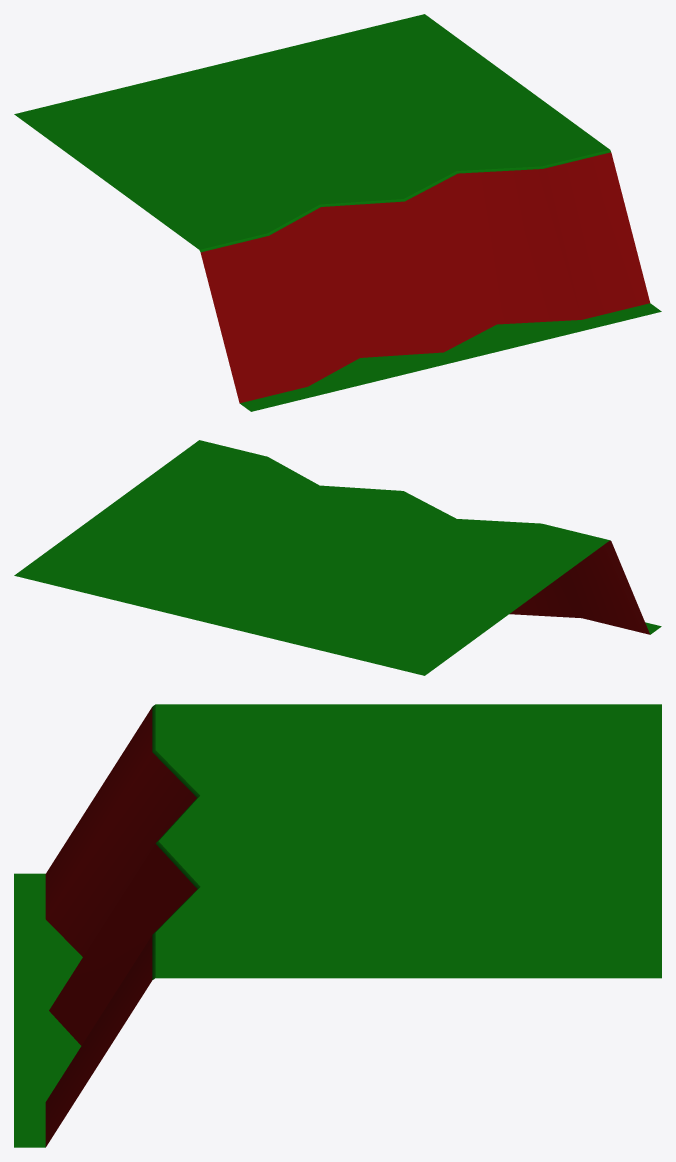
File: Cliff.fbx
The picture shows the model from 3 angles, top to bottom: view 1: azimuth 30°, elevation 25°; view 2: azimuth 150°, elevation 25°; view 3: azimuth 270°, elevation 25°; orthographic projection. The views are drawn at different scales.
Parts seen in each view (by area): view 1: Cliff; view 2: Cliff; view 3: Cliff.
Part boxes in pixels (x1,y1,x2,y2): Cliff: [14, 14, 661, 411]; Cliff: [14, 440, 661, 675]; Cliff: [14, 704, 661, 1147].
Size of the model in its own units: 7 by 2.02 by 7.
